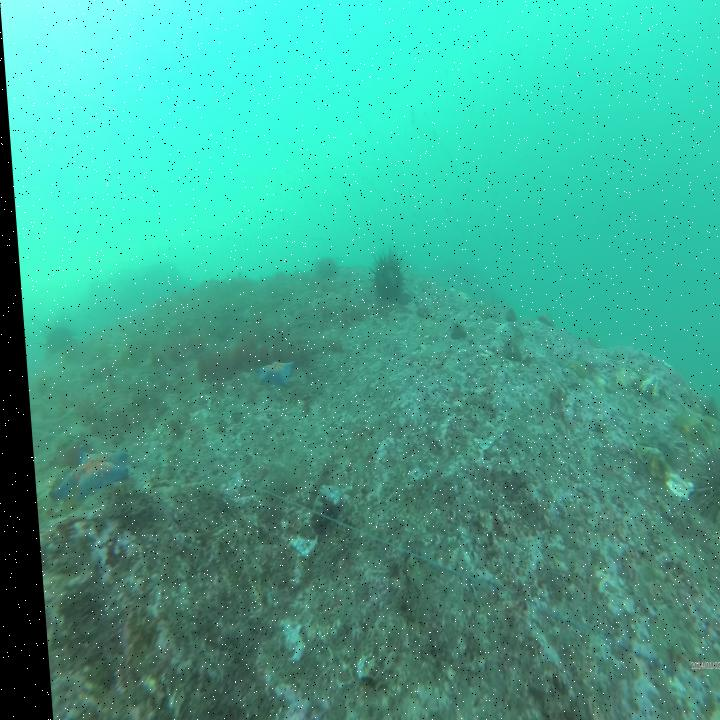echinus: (689, 441, 720, 536), (365, 246, 403, 306), (37, 325, 70, 358), (309, 255, 335, 284)
starfish: (42, 448, 124, 500), (251, 360, 290, 388)
